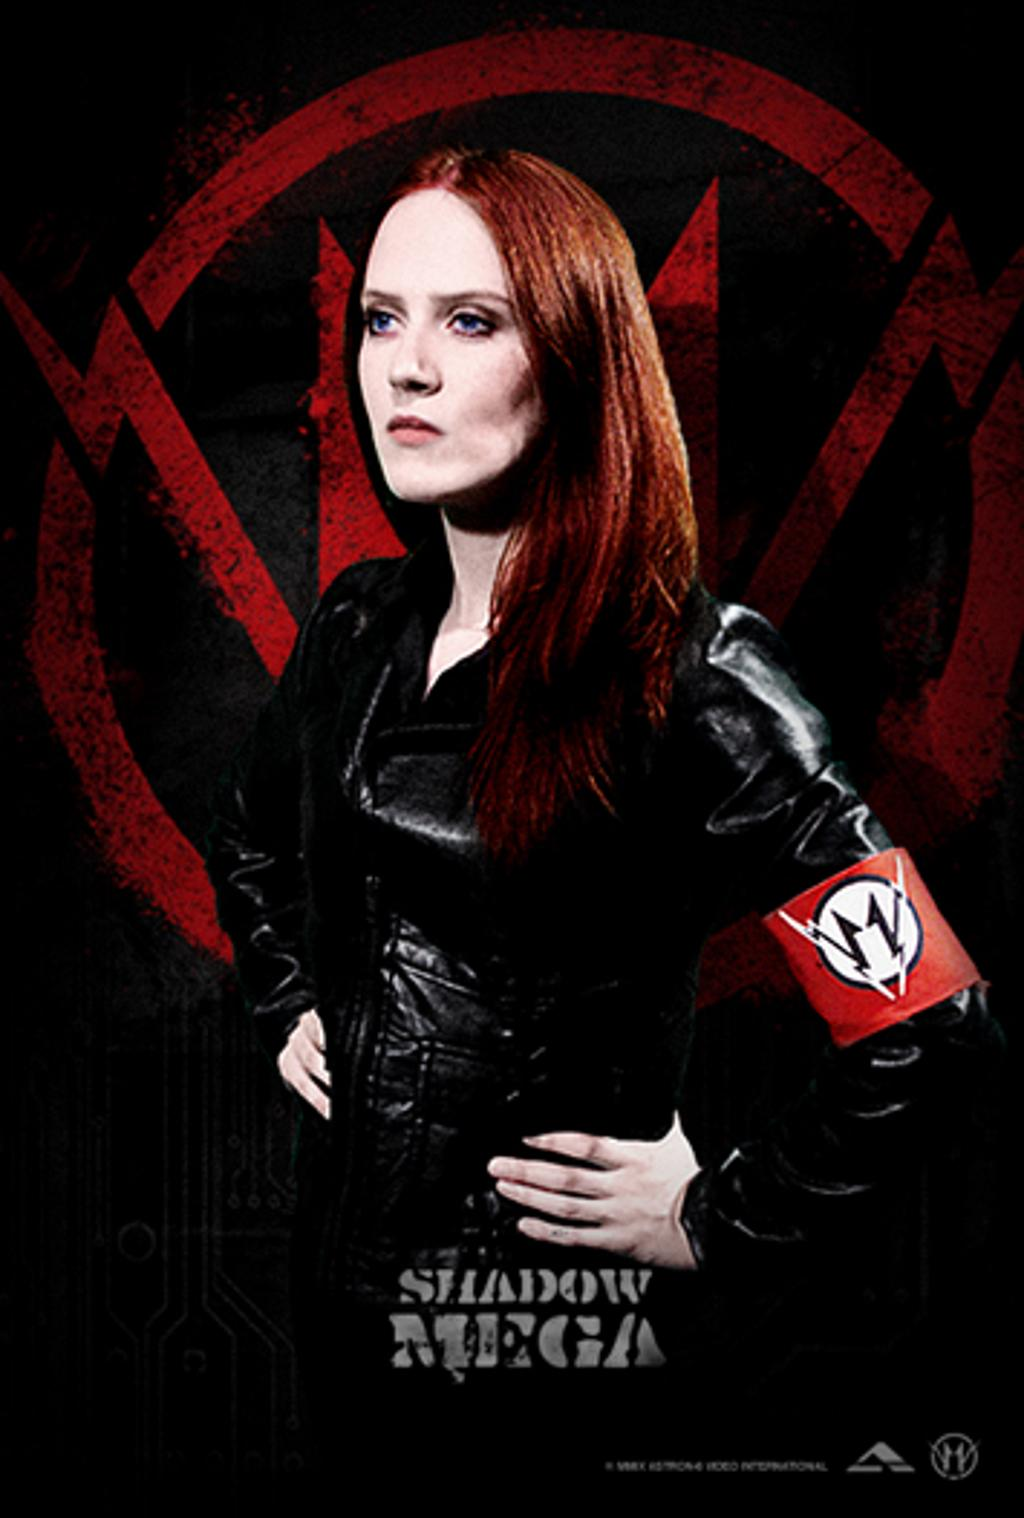face: (364, 192, 559, 491)
